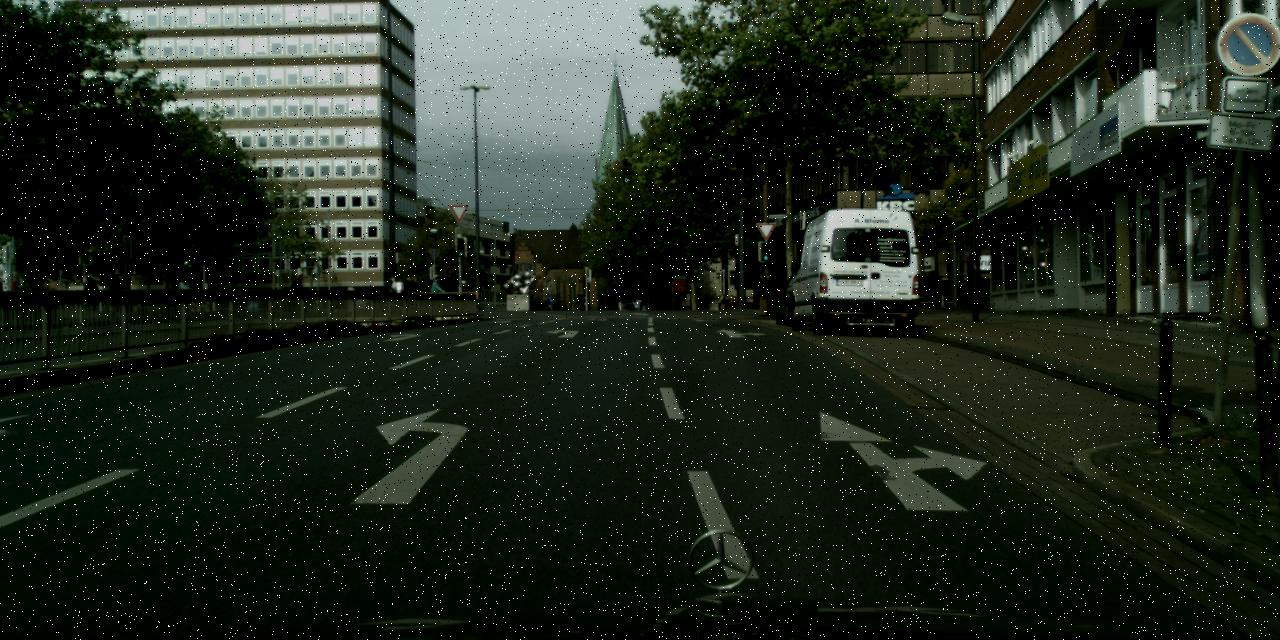ped: (109, 276, 128, 323), (753, 272, 771, 316), (427, 274, 444, 316), (762, 276, 778, 316), (292, 273, 308, 311), (179, 275, 193, 311), (457, 279, 470, 312), (386, 276, 398, 308), (401, 276, 421, 293), (721, 294, 728, 312), (728, 294, 734, 312)
